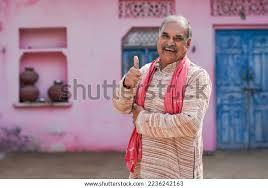Human: (113, 8, 221, 185)
